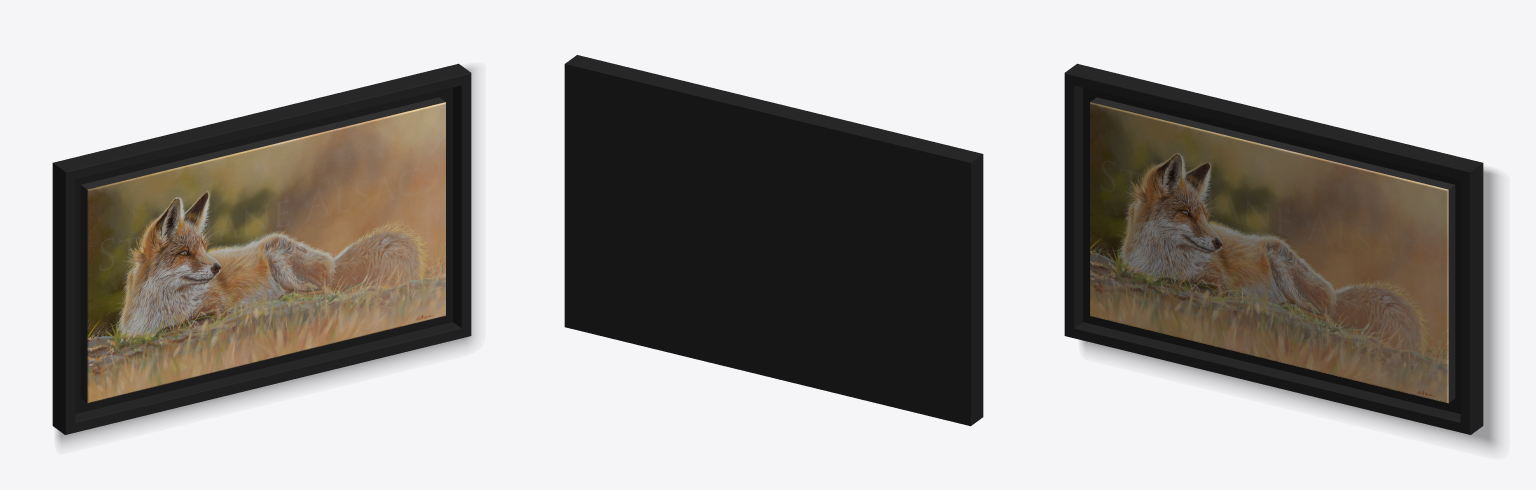
Rendered from tableau-renard-classique-af8f9119.glb.
3 views of the same model, side by side, from view 1: azimuth 30°, elevation 25°; view 2: azimuth 150°, elevation 25°; view 3: azimuth 330°, elevation 25° (orthographic).
Parts seen in each view (by area): view 1: Painting; view 2: Painting; view 3: Painting.
Boxes of the visible parts, x1=… form: Painting: x1=52, y1=63, x2=474, y2=444; Painting: x1=564, y1=55, x2=983, y2=426; Painting: x1=1064, y1=63, x2=1498, y2=448.
Size of the model in its own units: 0.876 by 0.596 by 0.04.
Materials: 5 (3 with a texture image).
